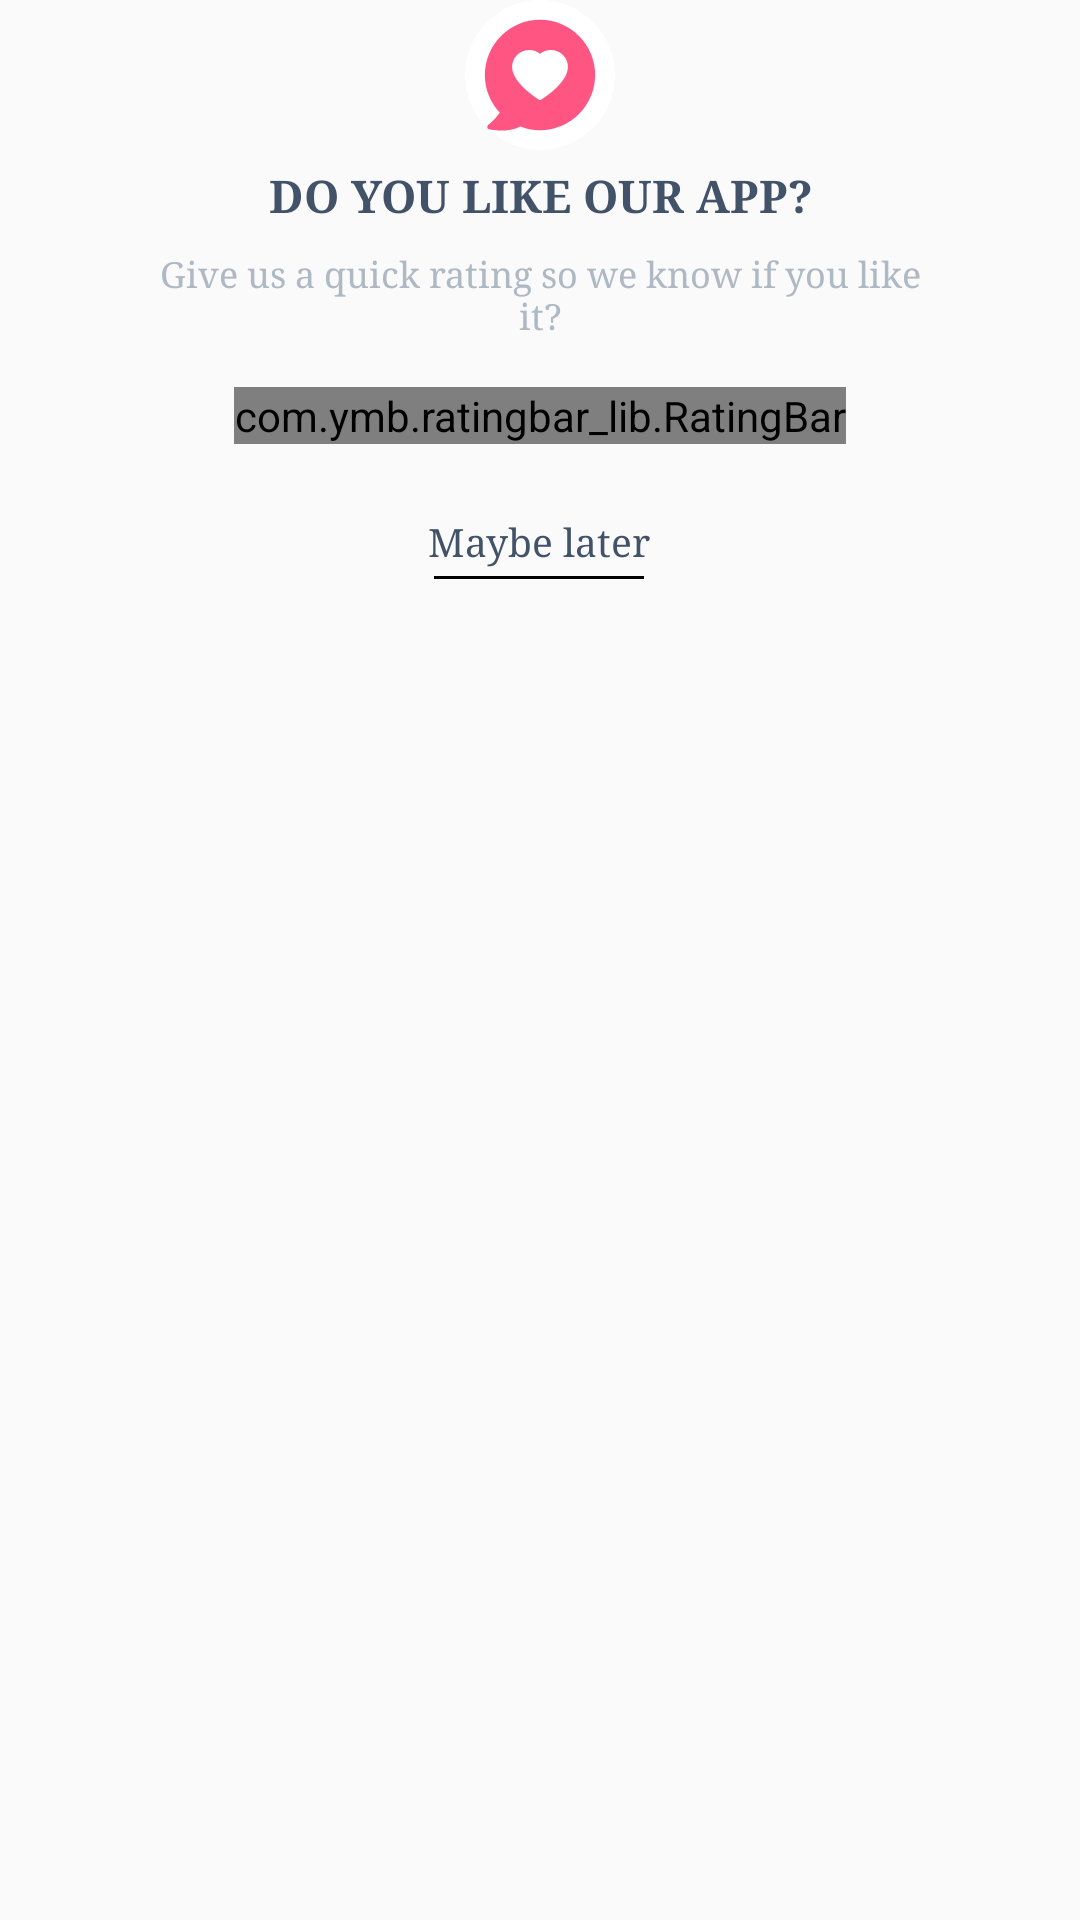

Named icons in this screenshot (1080 × 1920) and their centers, (x=x, y=y):
heart: (x=540, y=75)
